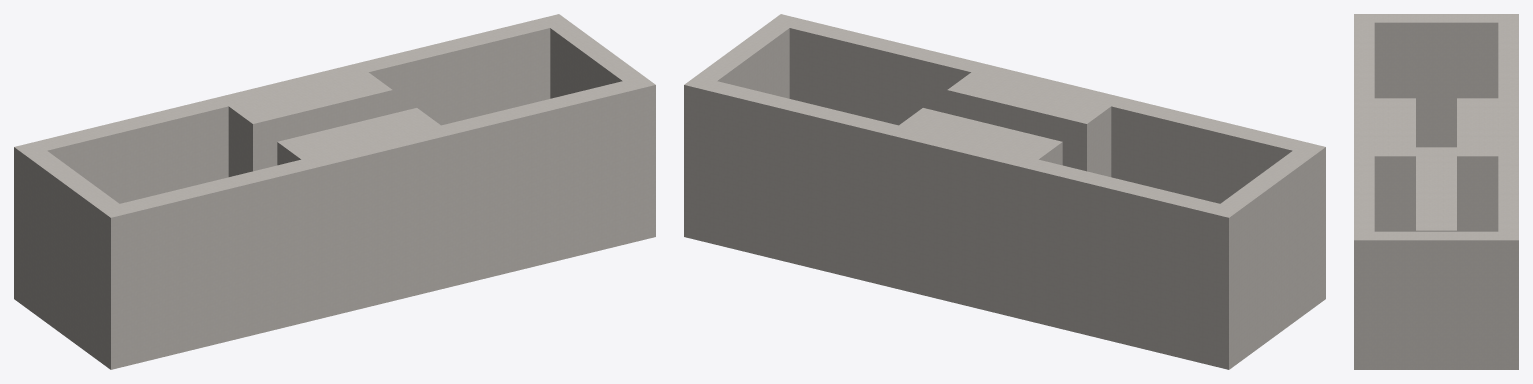
Rendered from pool.dae.
The picture shows the model from 3 angles, left to right: view 1: azimuth 30°, elevation 25°; view 2: azimuth 150°, elevation 25°; view 3: azimuth 270°, elevation 25°; orthographic projection. The views are drawn at different scales.
Parts seen in each view (by area): view 1: pool; view 2: pool; view 3: pool.
Boxes of the visible parts, x1,y1,x2,y2 form: pool: (14,14,655,369); pool: (684,14,1325,369); pool: (1354,14,1518,369).
Bounding box in the file's own units: 39 × 12 × 10.4.
Materials: 1 (1 with a texture image).
